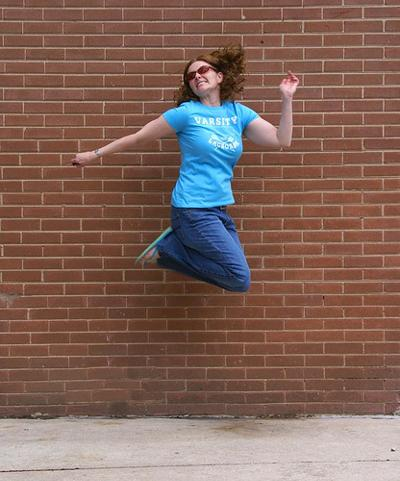person: (71, 52, 299, 290)
